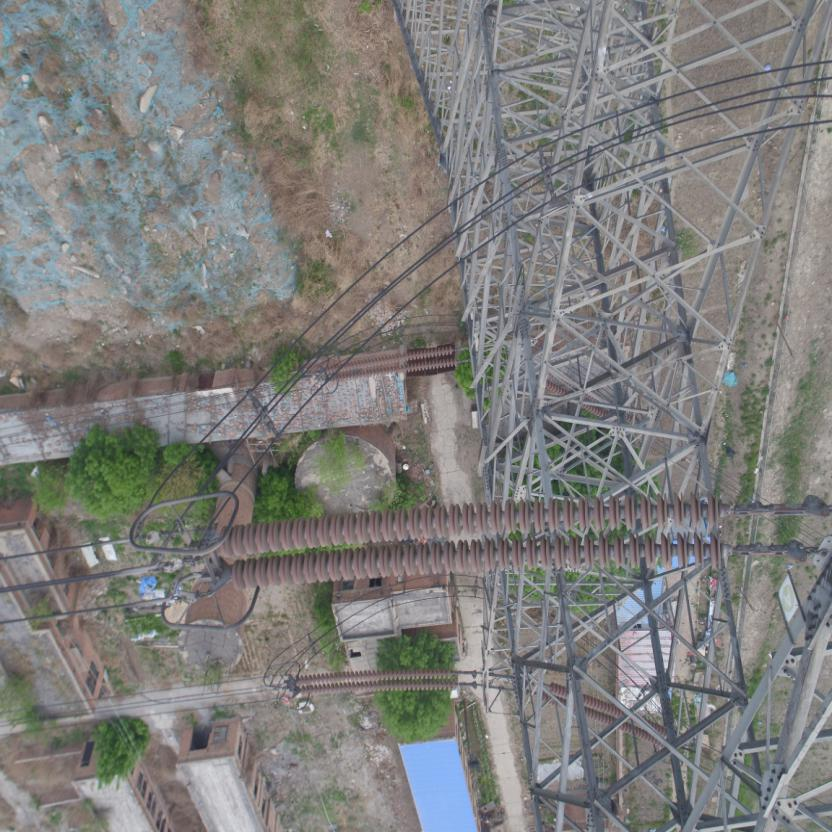insulator: (208, 493, 774, 598), (290, 667, 465, 703)
